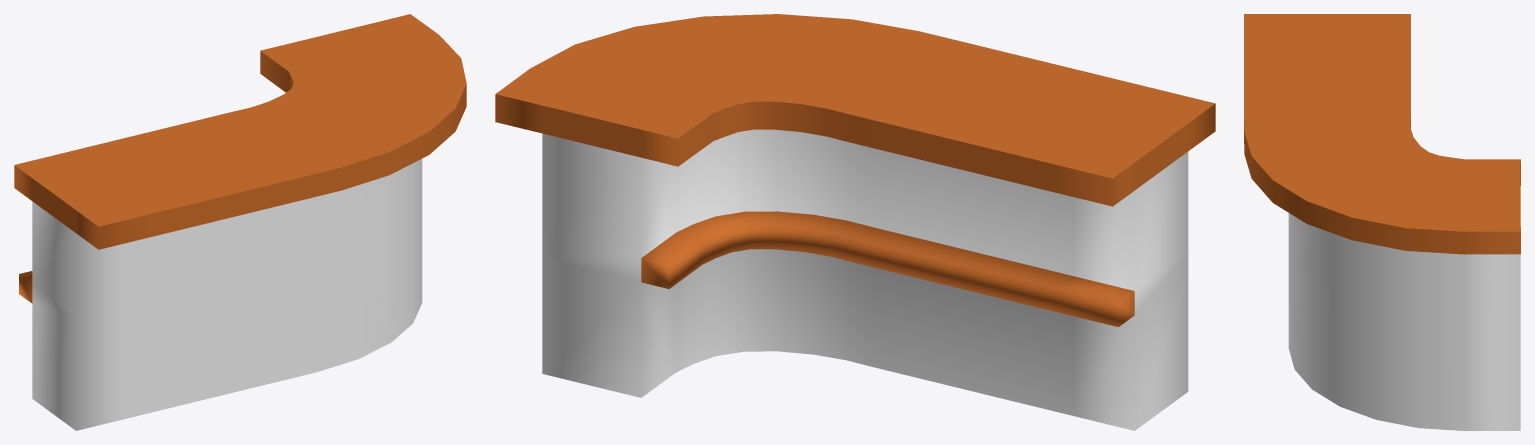
3 views of the same model, side by side, from view 1: azimuth 30°, elevation 25°; view 2: azimuth 150°, elevation 25°; view 3: azimuth 270°, elevation 25° (orthographic). The views are drawn at different scales.
Parts seen in each view (by area): view 1: JBar.002; view 2: JBar.002; view 3: JBar.002.
Boxes of the visible parts, x1=… form: JBar.002: x1=14, y1=14, x2=466, y2=430; JBar.002: x1=495, y1=14, x2=1215, y2=430; JBar.002: x1=1244, y1=14, x2=1520, y2=430.
Size of what is drawn, in the model's own units: 2.21 by 1.03 by 1.19.
1 material, 1 textured.
